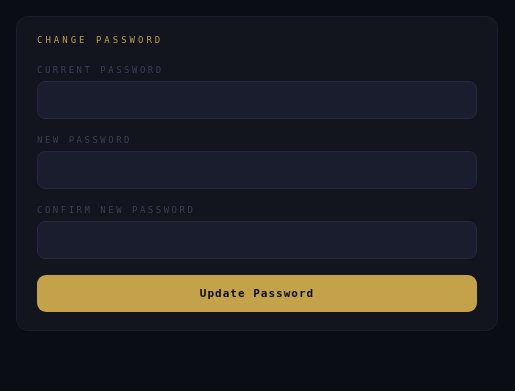
Scenario: shows API error message on failed submission
The width and height of the screenshot is (515, 391).
Step 1. Type "wrongpass" into the password field labelled "Current Password" → (257, 100), box [37,81,477,119]
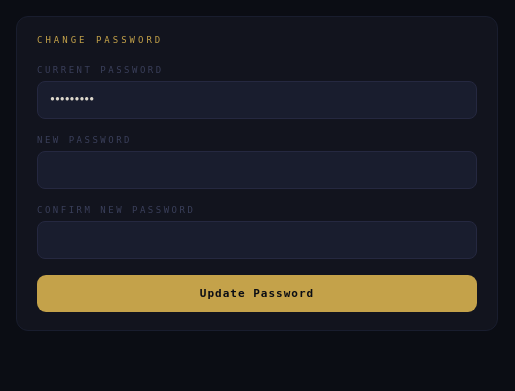
Step 2. Type "newpassword1" into the password field labelled "New Password" → (257, 170), box [37,151,477,189]
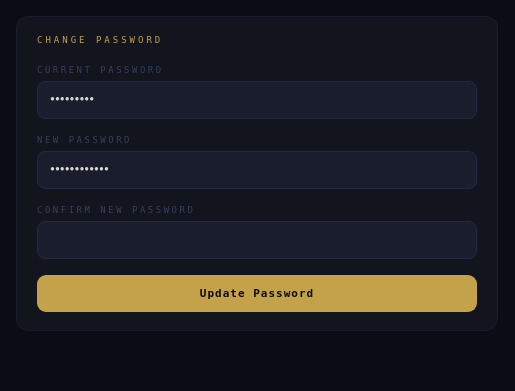
Step 3. Type "newpassword1" into the password field labelled "Confirm New Password" → (257, 240), box [37,221,477,259]
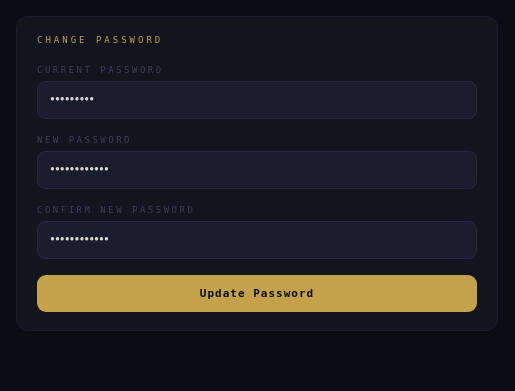
Step 4. Click the button "Update Password" → (257, 294), box [37,275,477,312]
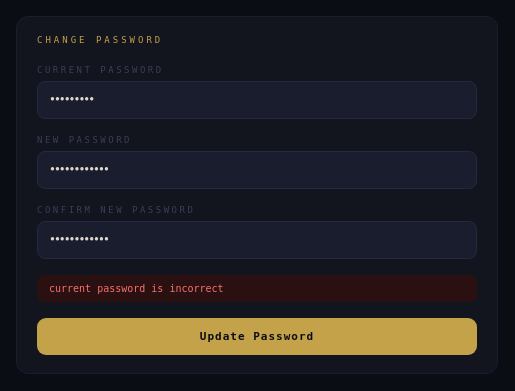
Check: the message reads "current password is incorrect", box [49,283,224,294]
